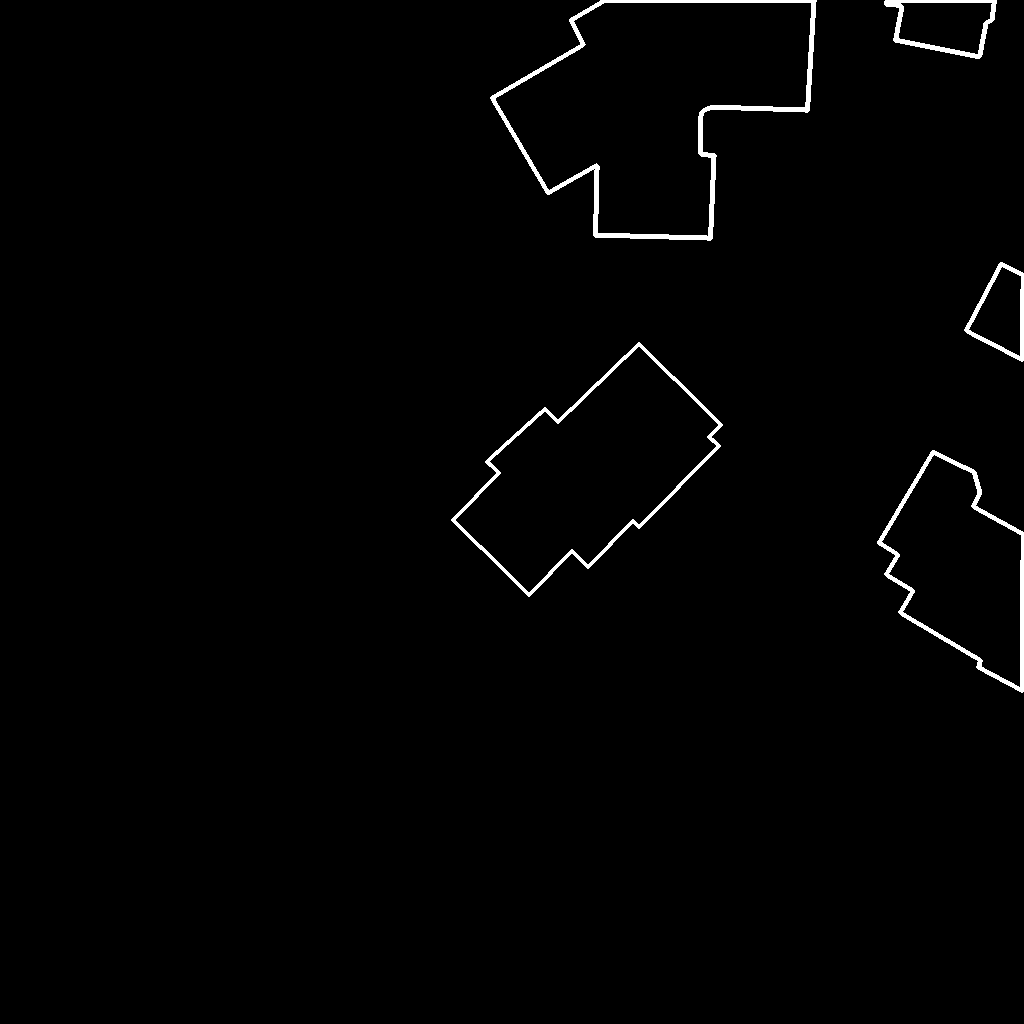building: (492, 0, 815, 239), (453, 344, 722, 596), (879, 452, 1024, 692), (886, 0, 996, 58), (966, 264, 1024, 361)
